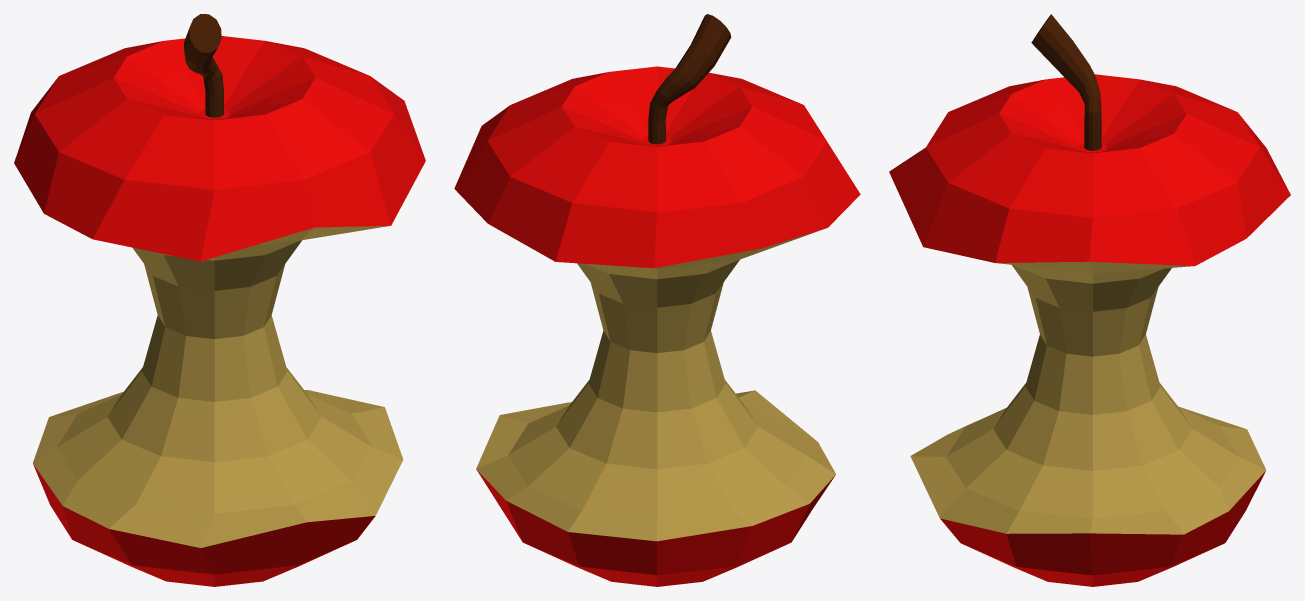
The model's file is Eaten Apple.fbx.
3 renders of one model, left to right at view 1: azimuth 30°, elevation 25°; view 2: azimuth 150°, elevation 25°; view 3: azimuth 270°, elevation 25°, orthographic. The views are drawn at different scales.
Parts seen in each view (by area): view 1: Cylinder; view 2: Cylinder; view 3: Cylinder.
Boxes of the visible parts, x1=… form: Cylinder: x1=14, y1=14, x2=425, y2=586; Cylinder: x1=454, y1=14, x2=860, y2=586; Cylinder: x1=889, y1=14, x2=1290, y2=586.
Bounding box in the file's own units: 388 × 377 × 552.
